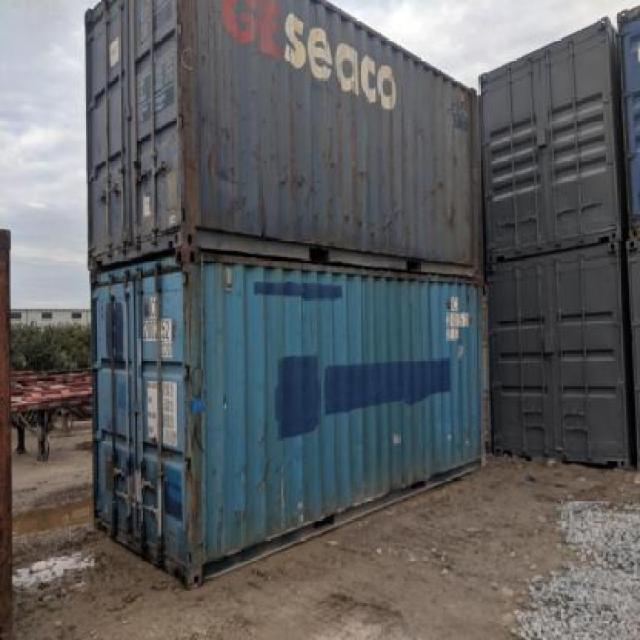rust: (177, 261, 214, 567), (290, 490, 387, 521)
